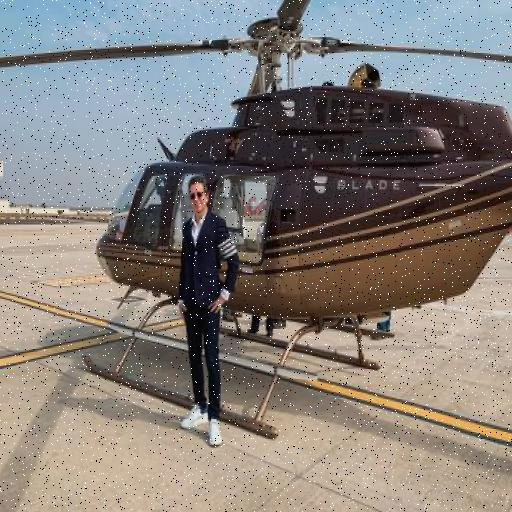helicopter: (77, 1, 512, 453)
